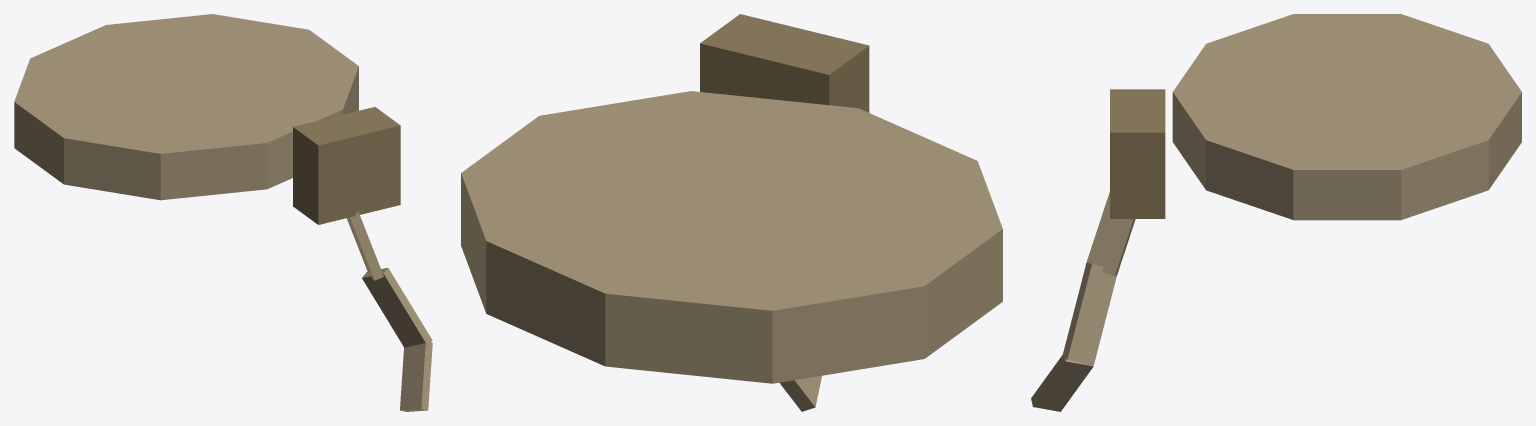
File: gear_tti_t1.glb
3 views of the same model, side by side, from view 1: azimuth 30°, elevation 25°; view 2: azimuth 150°, elevation 25°; view 3: azimuth 270°, elevation 25° (orthographic). The views are drawn at different scales.
Visible parts, largest first — view 1: gear_tti_t1; view 2: gear_tti_t1; view 3: gear_tti_t1.
Boxes of the visible parts, x1,y1,x2,y2 form: gear_tti_t1: (14,14,432,411); gear_tti_t1: (461,14,1002,411); gear_tti_t1: (1031,14,1521,411).
Bounding box in the file's own units: 0.466 × 0.4013 × 0.6201.
